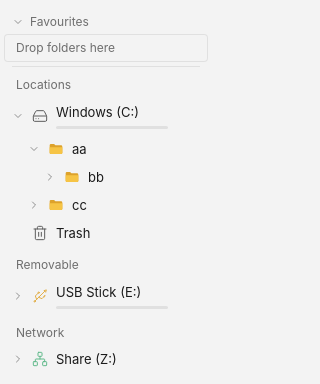
Scenario: FolderTree › removes collapsed descendants and keeps the pinned overlay out of the macOS scrollbar lane
This screenshot has width=320, height=384.
Expected: the text "bb" is shown, [88,168,104,186]
Expected: the list item "Windows (C:)" is shown, [4,97,208,135]
Click the button named "Toggle".
click(18, 116)  # box [8,106,28,126]
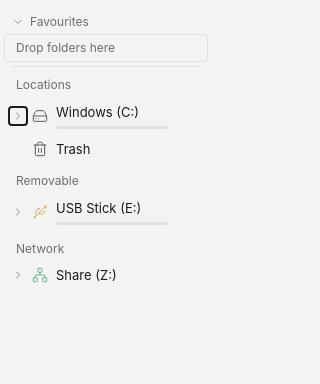
Expected: the list item "USB Stick (E:)" is shown, [4,193,208,231]
Result: the button "aa" is gone
Result: the button "bb" is gone
